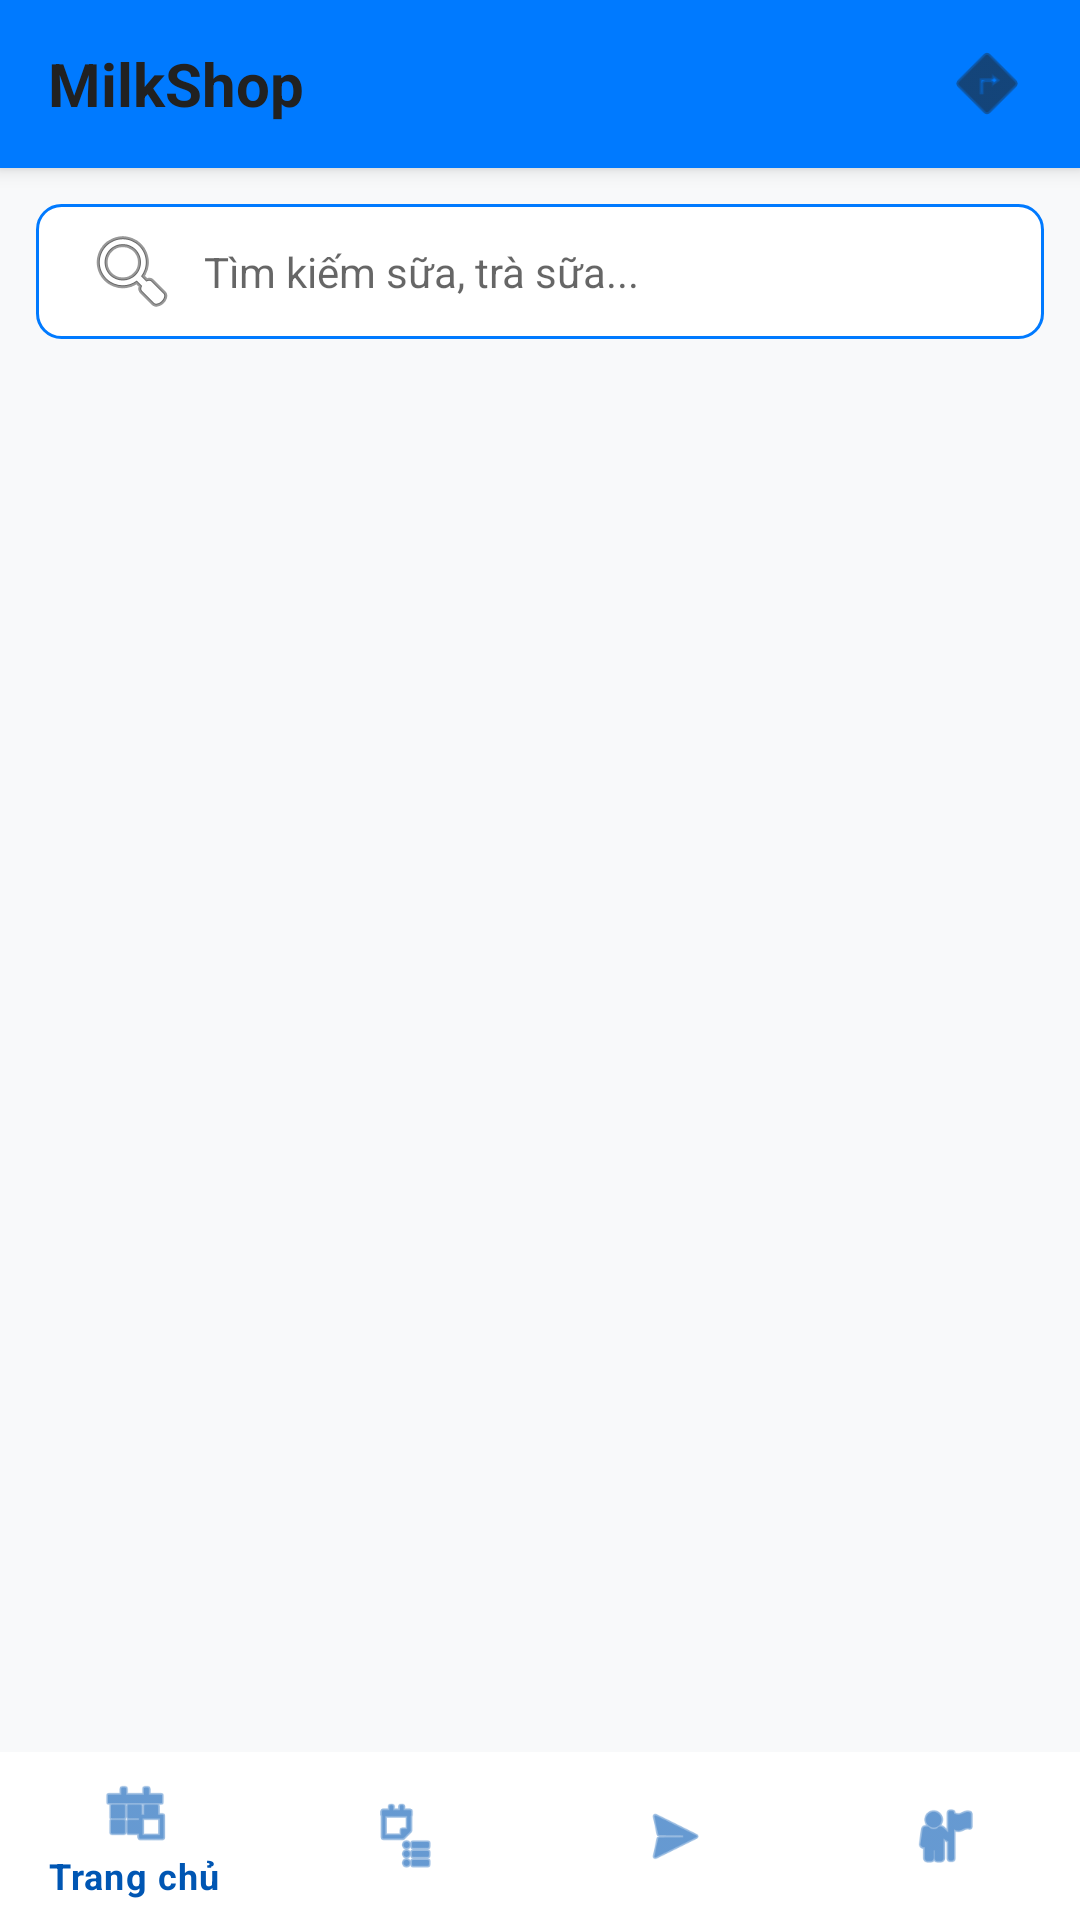

Locate icon controls on the screen. Image size 1080x1920, boxes as (x1, y1, x2, y2).
directions: (956, 53, 1018, 114)
